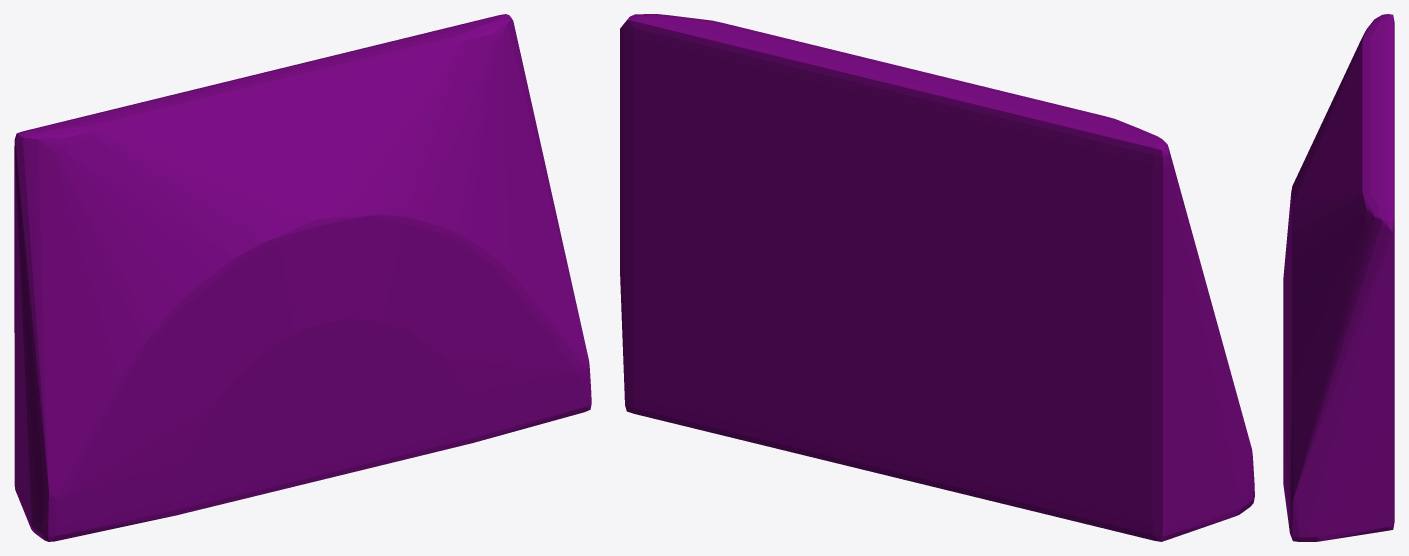
Rendered from pelvis_part_11.obj.
The picture shows the model from 3 angles, left to right: view 1: azimuth 30°, elevation 25°; view 2: azimuth 150°, elevation 25°; view 3: azimuth 270°, elevation 25°; orthographic projection. The views are drawn at different scales.
Bounding box in the file's own units: 0.1239 × 0.0789 × 0.0253.
